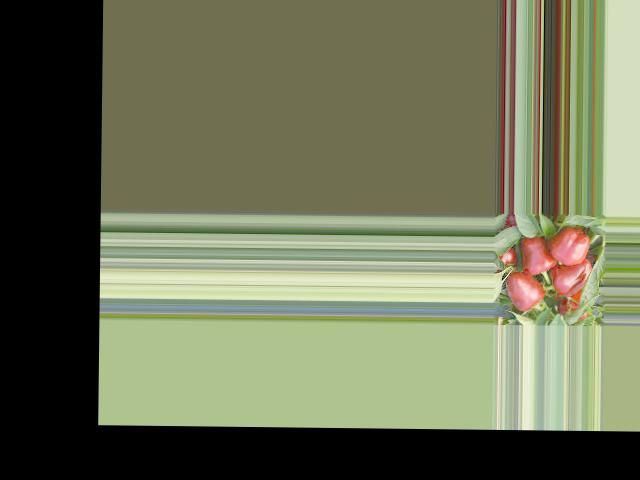bell_pepper: (540, 227, 593, 266)
